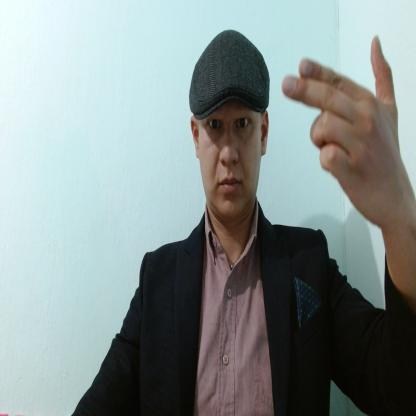H: (281, 34, 403, 224)
